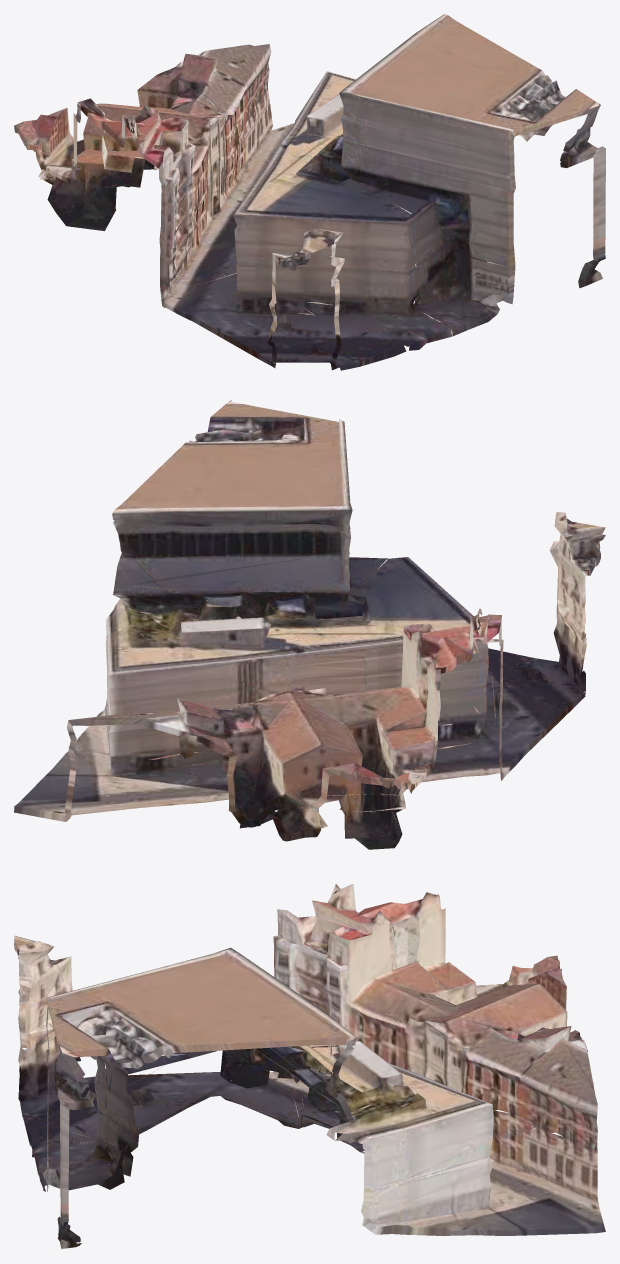
3 renders of one model, top to bottom at view 1: azimuth 30°, elevation 25°; view 2: azimuth 150°, elevation 25°; view 3: azimuth 270°, elevation 25°, orthographic. The views are drawn at different scales.
Visible parts, largest first — view 1: Mesh_0; view 2: Mesh_0; view 3: Mesh_0.
Boxes of the visible parts, <box> form: Mesh_0: <box>14,14,605,370</box>; Mesh_0: <box>14,400,605,849</box>; Mesh_0: <box>14,884,605,1249</box>.
Bounding box in the file's own units: 67.47 × 33.37 × 82.68.
Materials: 2 (2 with a texture image).
